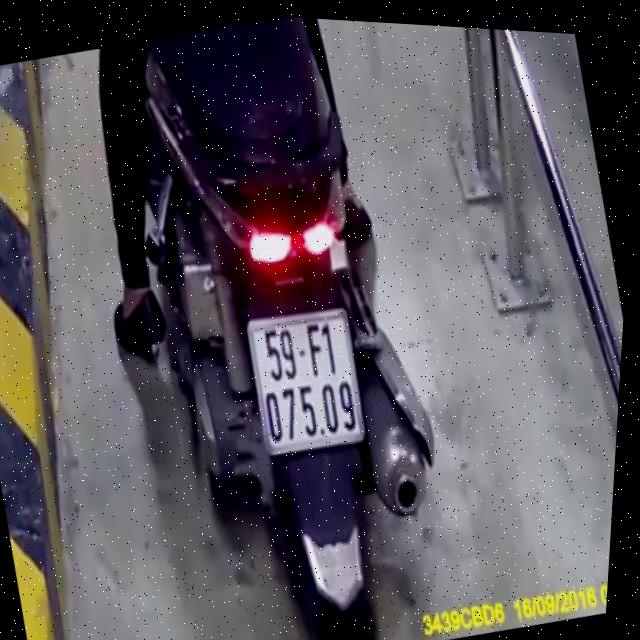motorcycle: (75, 7, 508, 640)
plate: (229, 294, 384, 468)
